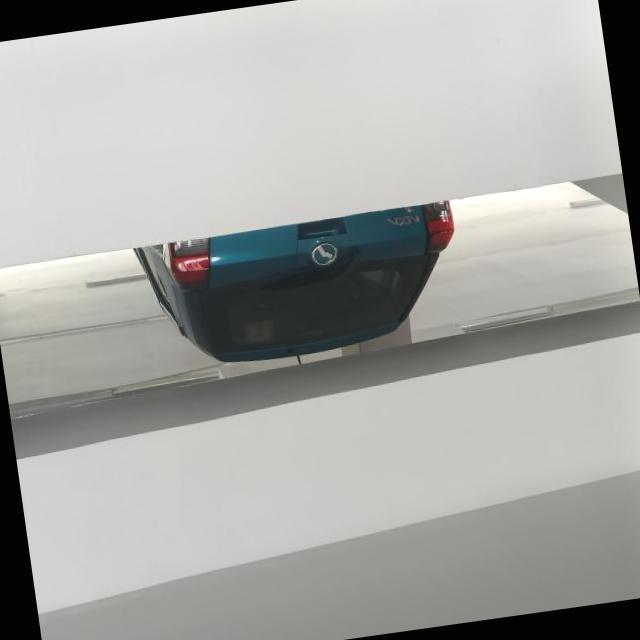PeroduaAxia: (130, 200, 470, 380)
